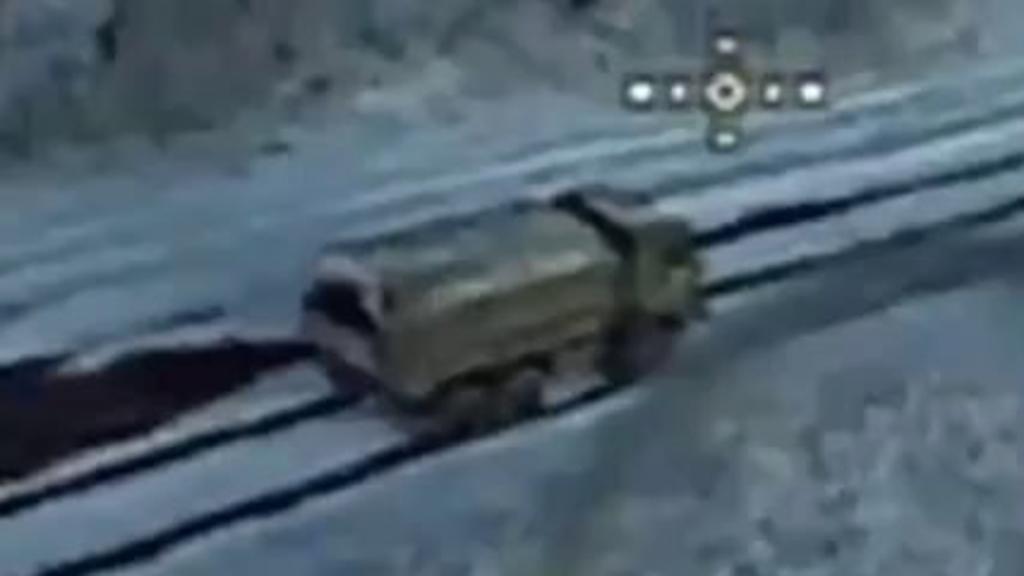TRUCK: (276, 177, 698, 420)
